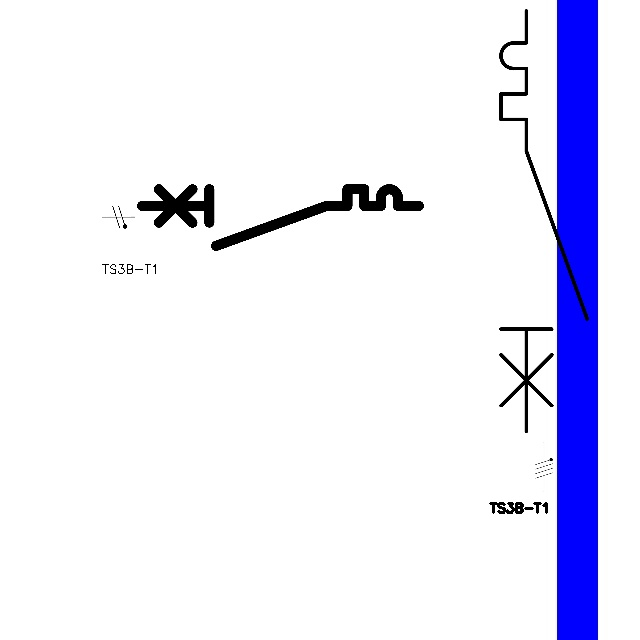interruptor_termomagnetico: (490, 0, 598, 442), (134, 182, 425, 253)
